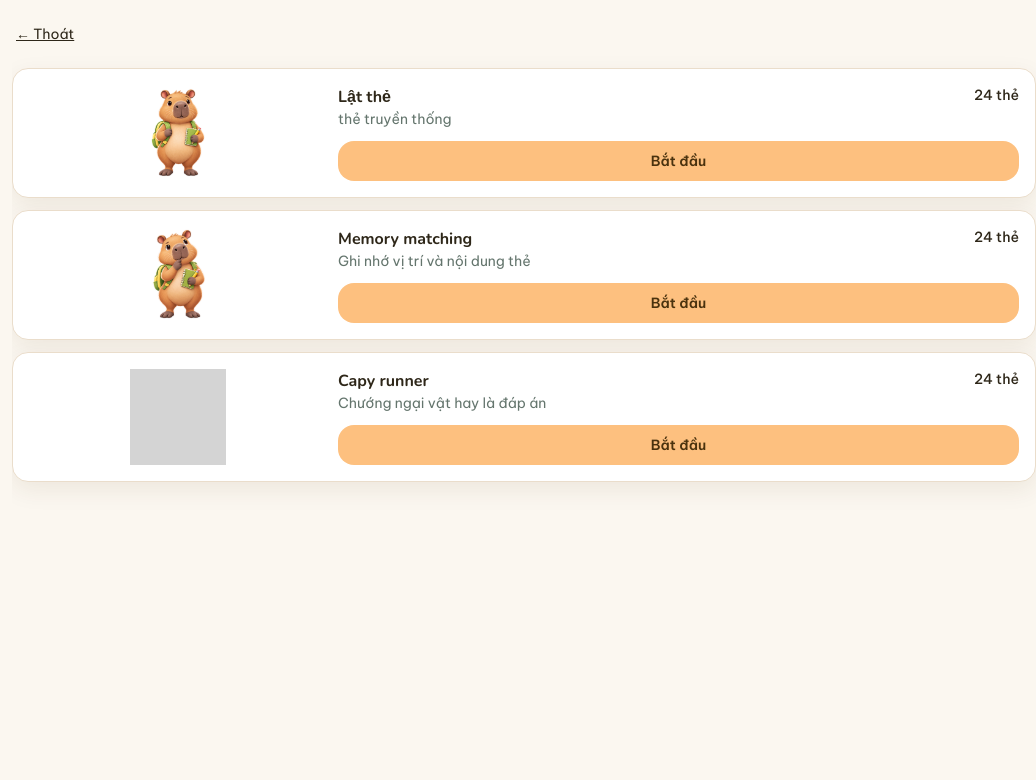
Test: StudyModeSelect › reveals Memory counts and Runner count plus difficulty controls only after selecting a mode
Click the button with aria-label "Bắt đầu Memory": x=678, y=303 338,283 -> 1019,323
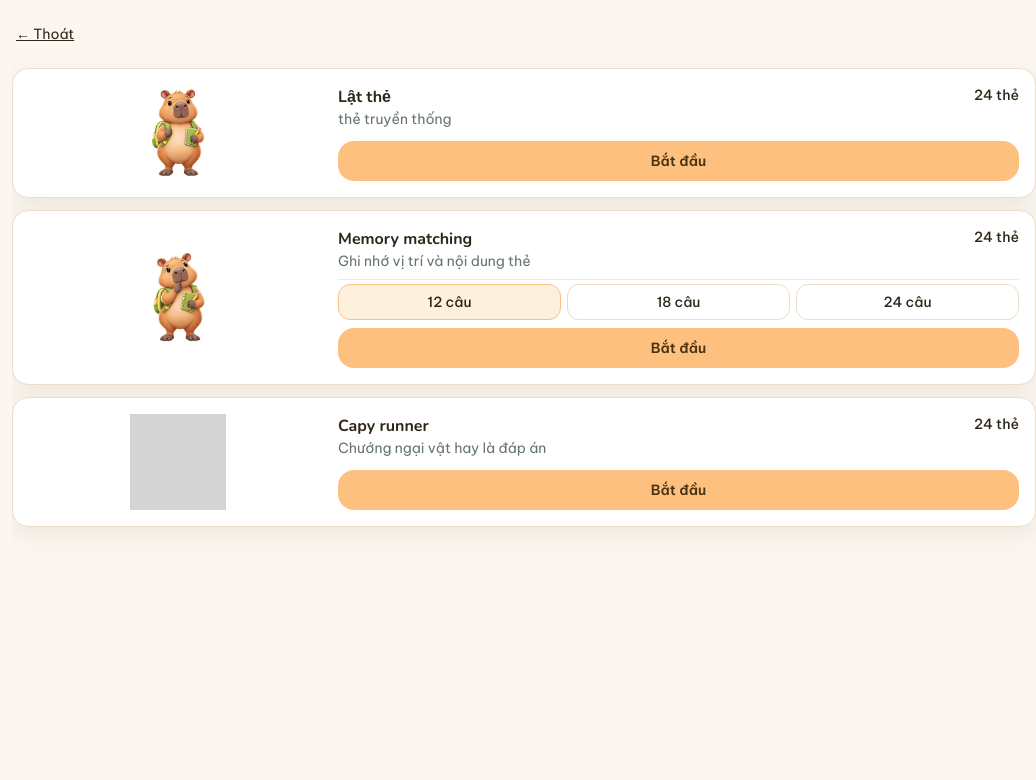
Now the button "12 câu" is shown, box 338,284 -> 561,320
Click the button with aria-label "Bắt đầu Runner": x=678, y=490 338,470 -> 1019,510
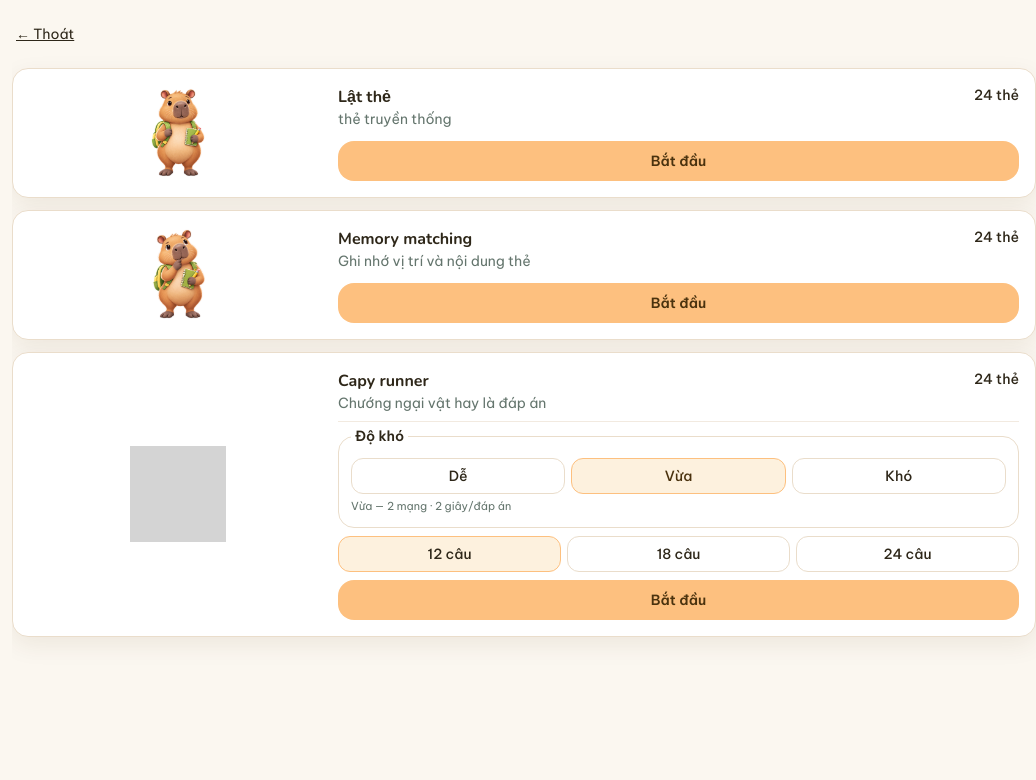
Now the button "Dễ" is shown, box 351,458 -> 565,494
Now the button "Vừa" is shown, box 571,458 -> 786,494
Now the button "Khó" is shown, box 792,458 -> 1006,494
